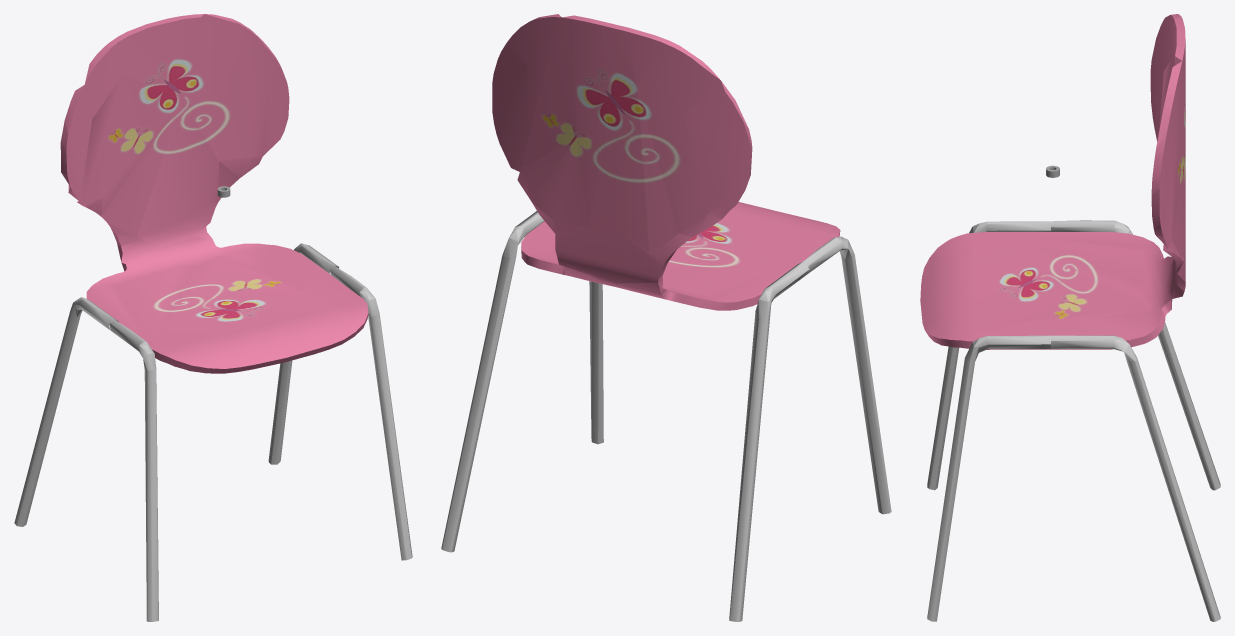
The model's file is Chair.fbx.
3 views of the same model, side by side, from view 1: azimuth 30°, elevation 25°; view 2: azimuth 150°, elevation 25°; view 3: azimuth 270°, elevation 25° (orthographic). The views are drawn at different scales.
Visible parts, largest first — view 1: polySurface1; view 2: polySurface1; view 3: polySurface1.
Part boxes in pixels (x1,y1,x2,y2): polySurface1: (14, 14, 412, 621); polySurface1: (441, 14, 891, 621); polySurface1: (920, 14, 1220, 621).
Bounding box in the file's own units: 47.16 × 82.31 × 43.2.
3 materials, 1 textured.
